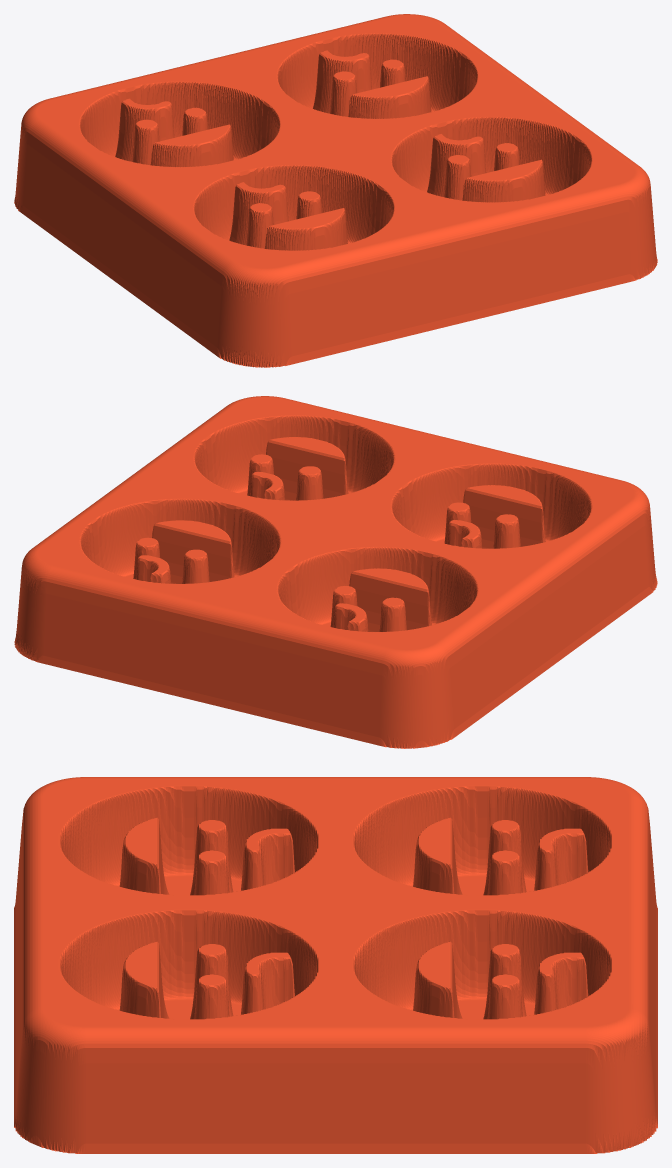
The model's file is mold.glb.
The picture shows the model from 3 angles, top to bottom: view 1: azimuth 30°, elevation 25°; view 2: azimuth 150°, elevation 25°; view 3: azimuth 270°, elevation 25°; orthographic projection. The views are drawn at different scales.
Parts seen in each view (by area): view 1: geometry_0; view 2: geometry_0; view 3: geometry_0.
Boxes of the visible parts, left/top/right/bottom form: geometry_0: left=14, top=14, right=657, bottom=367; geometry_0: left=14, top=396, right=657, bottom=748; geometry_0: left=14, top=777, right=657, bottom=1153.
Bounding box in the file's own units: 0.0808 × 0.0159 × 0.0808.
